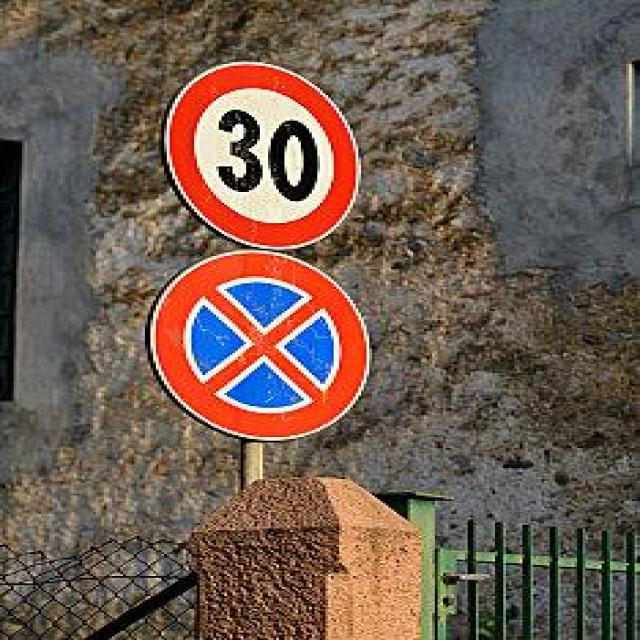speed limit 30: (170, 61, 366, 250)
